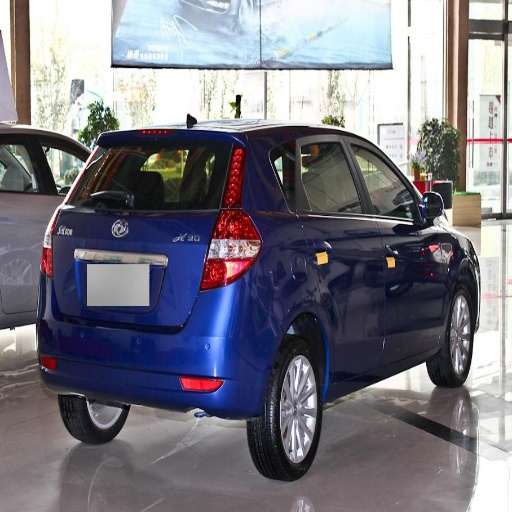back_bumper: (35, 275, 281, 422)
back_right_door: (283, 133, 383, 368)
tailgate: (52, 200, 216, 332)
